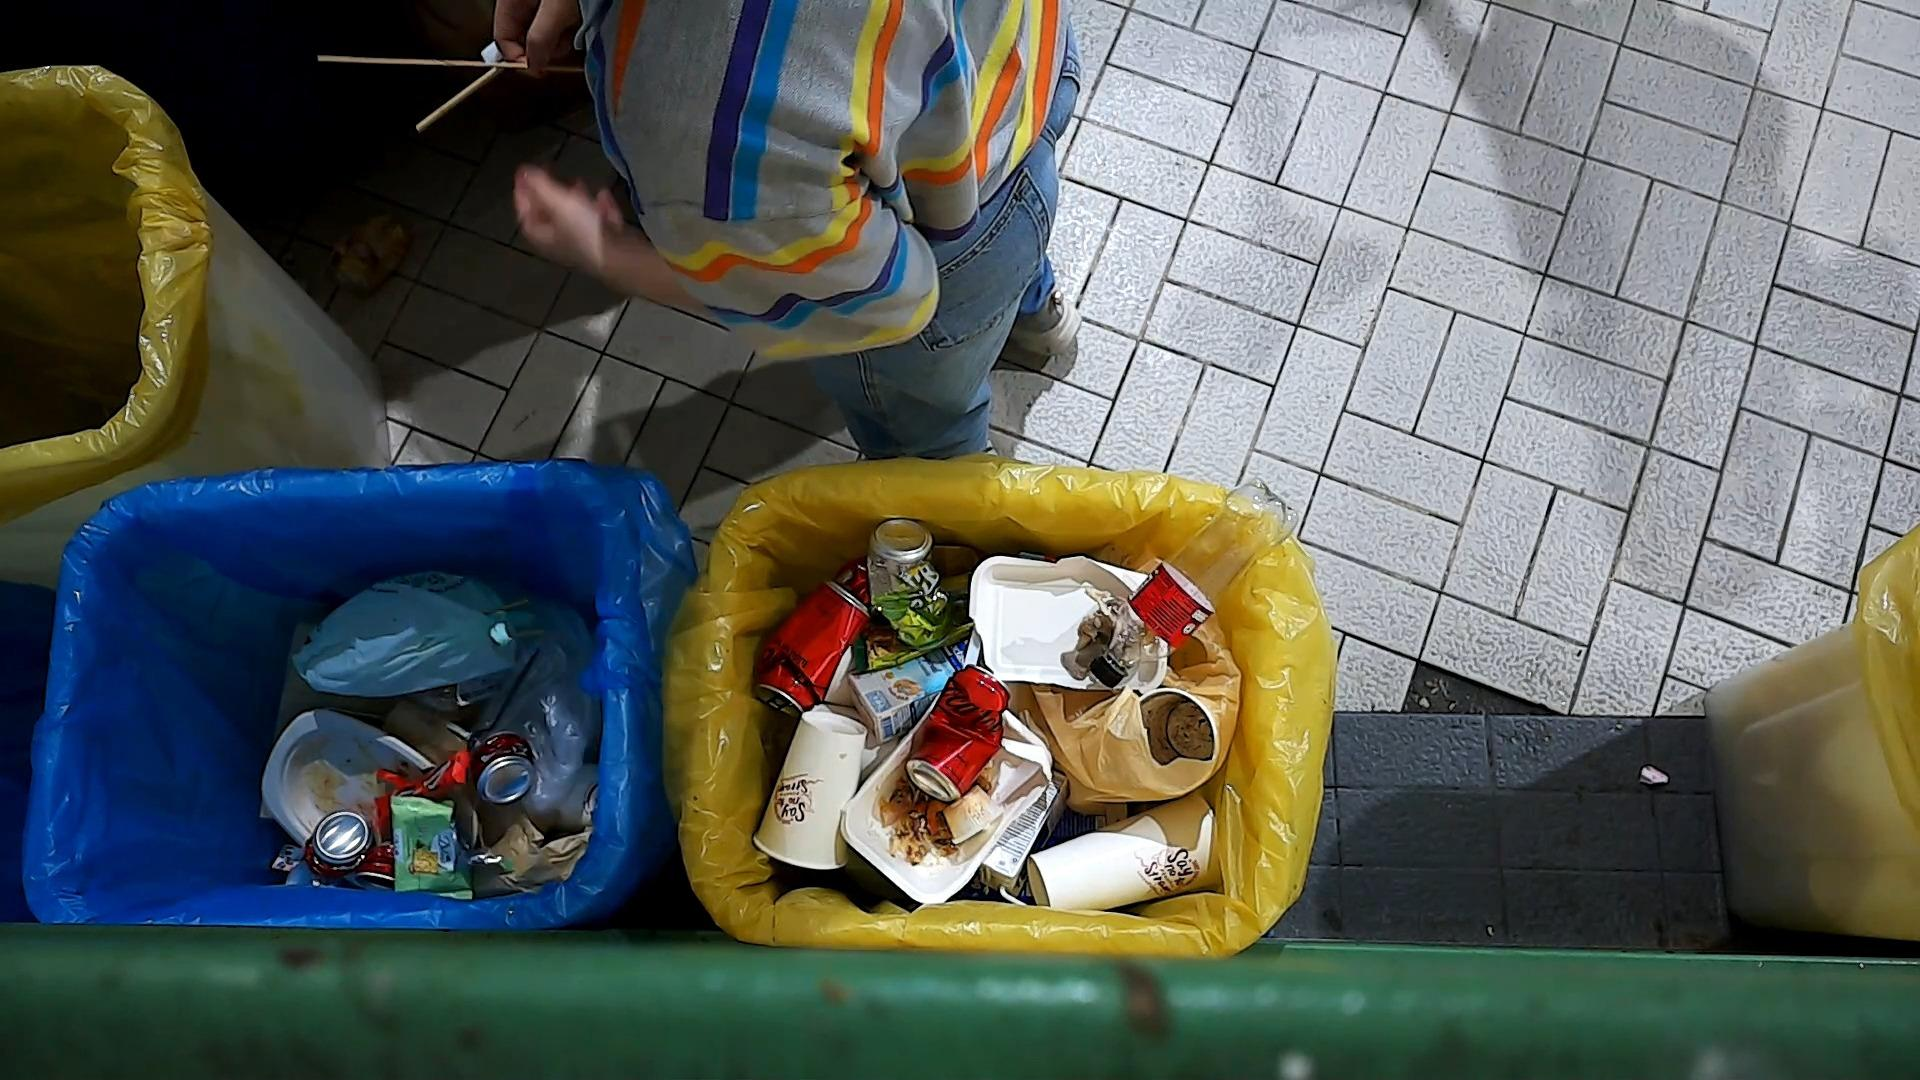can: (749, 575, 874, 721), (901, 662, 1015, 806), (864, 514, 957, 655), (301, 806, 378, 884), (469, 728, 539, 807)
dirty food container: (836, 686, 1056, 910), (965, 549, 1174, 695), (938, 778, 1007, 847)
filled plastic bag: (1027, 625, 1254, 816), (285, 562, 545, 702)
food container: (258, 704, 436, 852)
milk carton: (847, 632, 975, 753), (980, 762, 1073, 911)
paper bag: (479, 803, 595, 902)
plastic bag: (472, 576, 601, 820)
plastic bottle: (1084, 472, 1307, 690)
plastic cutlery: (464, 645, 546, 756)
snack packaging: (389, 791, 517, 906), (369, 748, 475, 847)
sticks: (410, 55, 512, 137), (314, 53, 588, 78)
zero waste cup: (1023, 787, 1226, 918), (749, 708, 868, 873)
